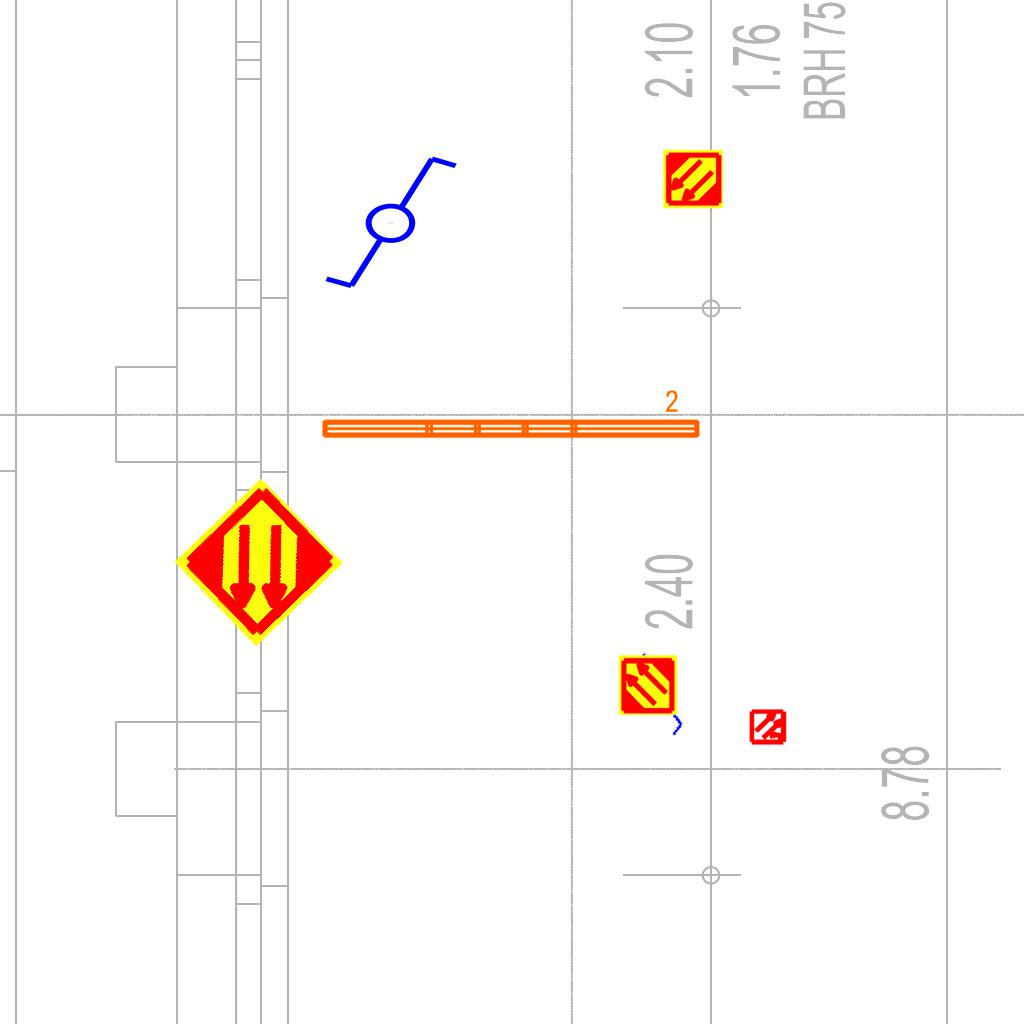ASR_Ansaugrauchmelder: (170, 474, 347, 651), (662, 148, 724, 210), (617, 654, 679, 716)
Ambulanz_Pendelleuchte_LED: (317, 388, 704, 444)
OT_Multisensormelder_(Kombination_RMO_WMD): (741, 699, 797, 755)
Wechselschalter: (304, 149, 461, 293), (609, 648, 705, 748)
